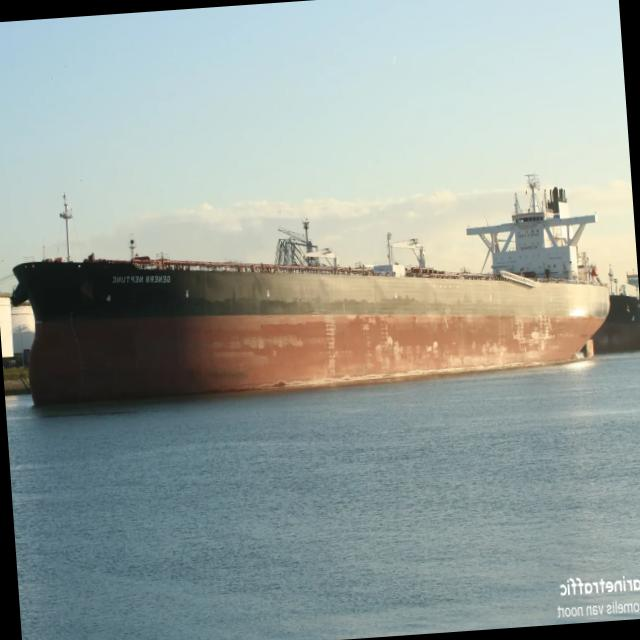Tanker: (11, 174, 610, 405)
